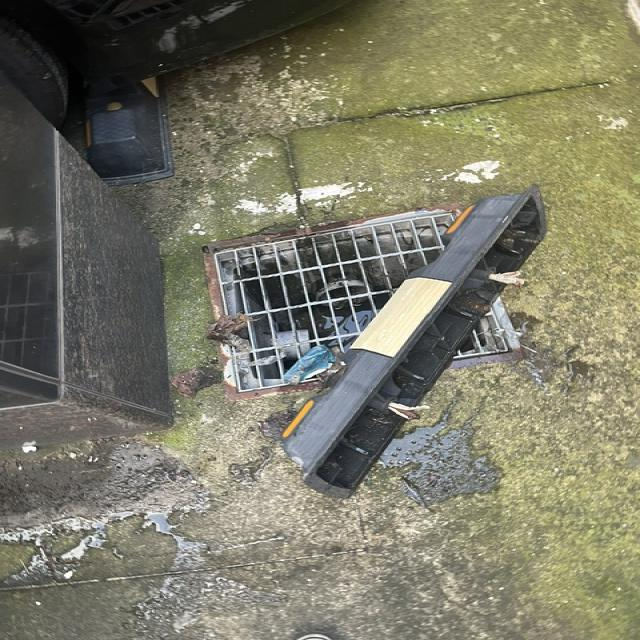drain_area: (217, 214, 453, 391), (450, 309, 508, 359)
drain_full: (216, 213, 509, 392)
